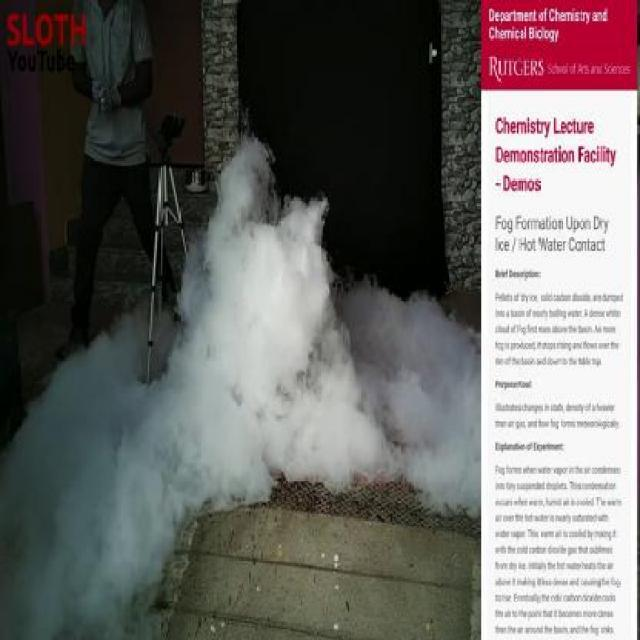smoke: (143, 188, 443, 548)
